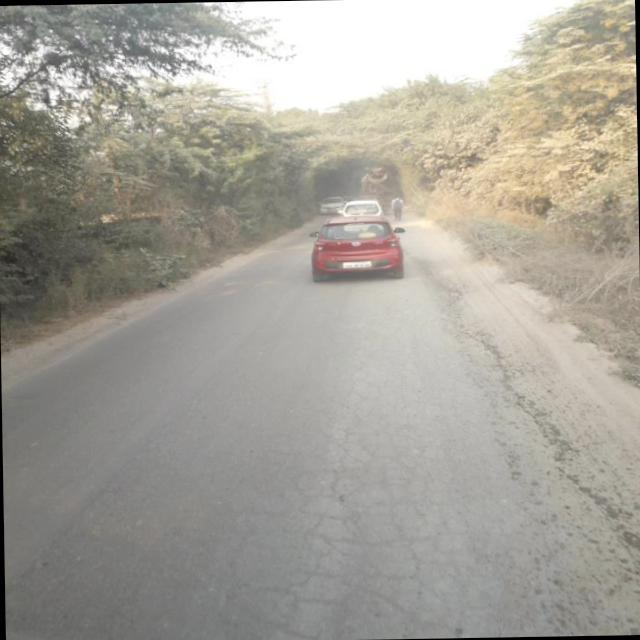crack: (206, 275, 543, 640)
